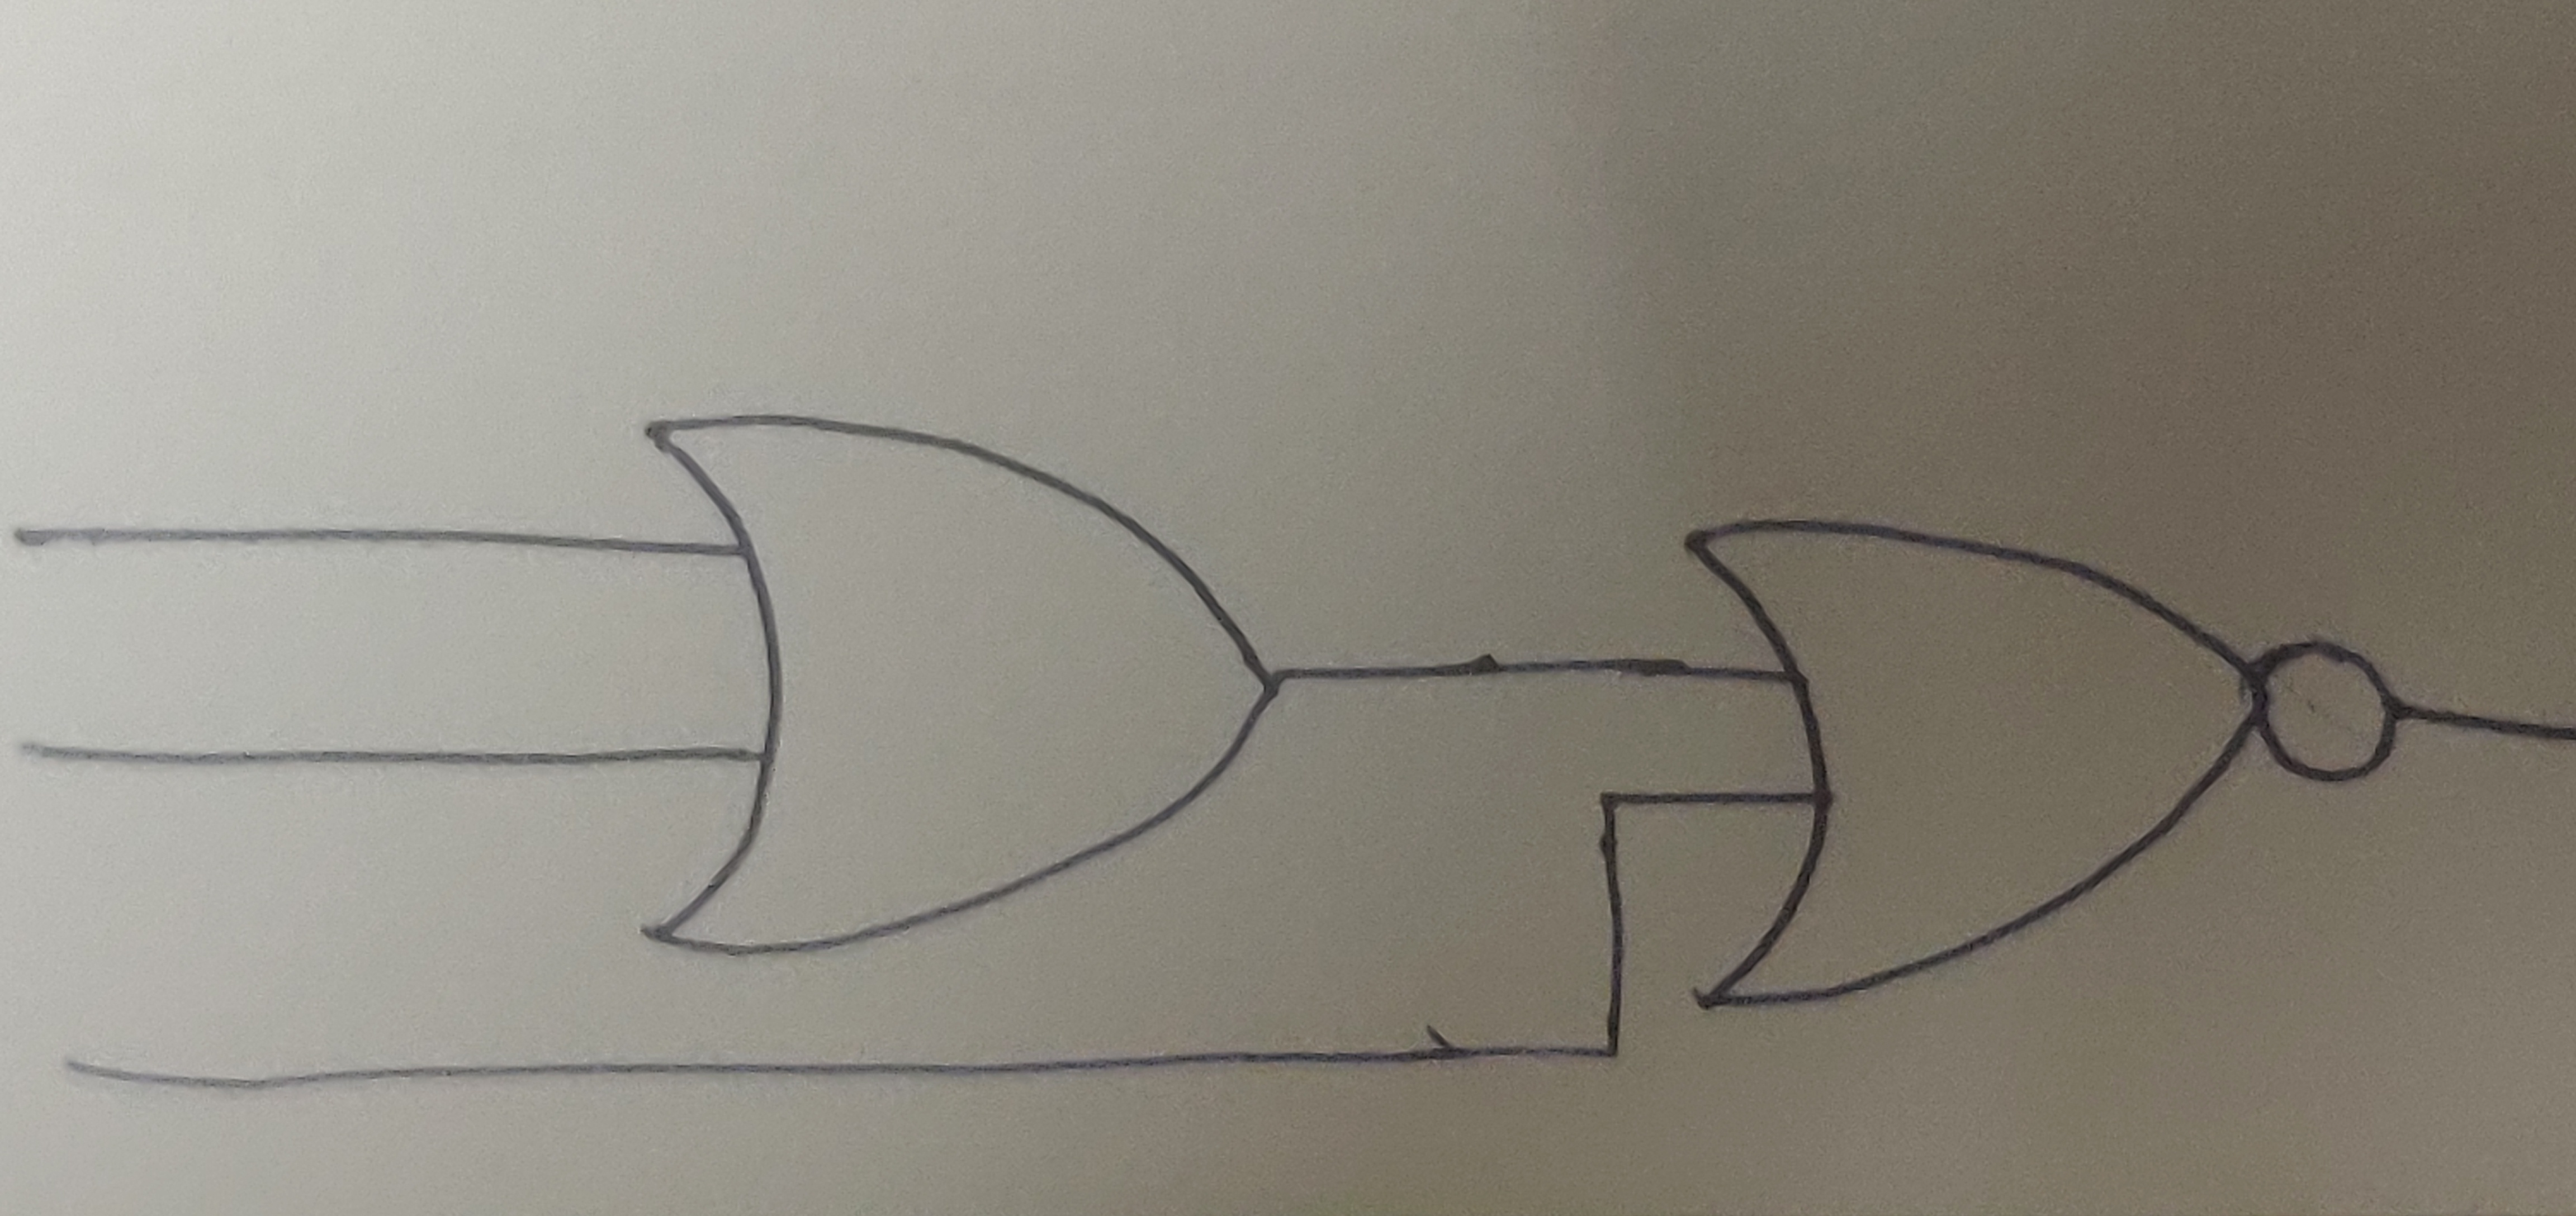not: (2257, 634, 2405, 789)
or: (641, 404, 1285, 973), (1679, 516, 2267, 1029)
